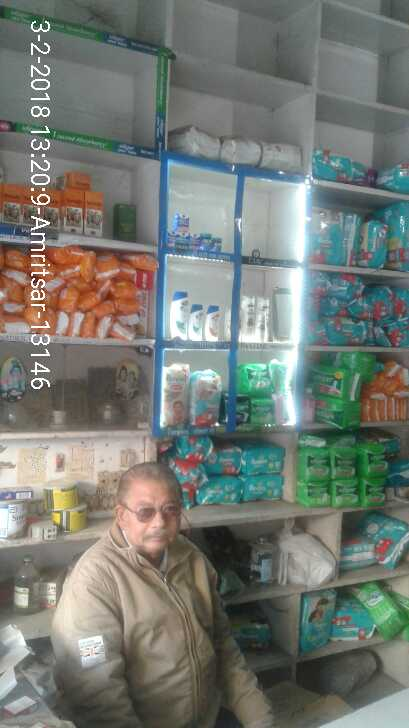vicks: (164, 211, 228, 254)
